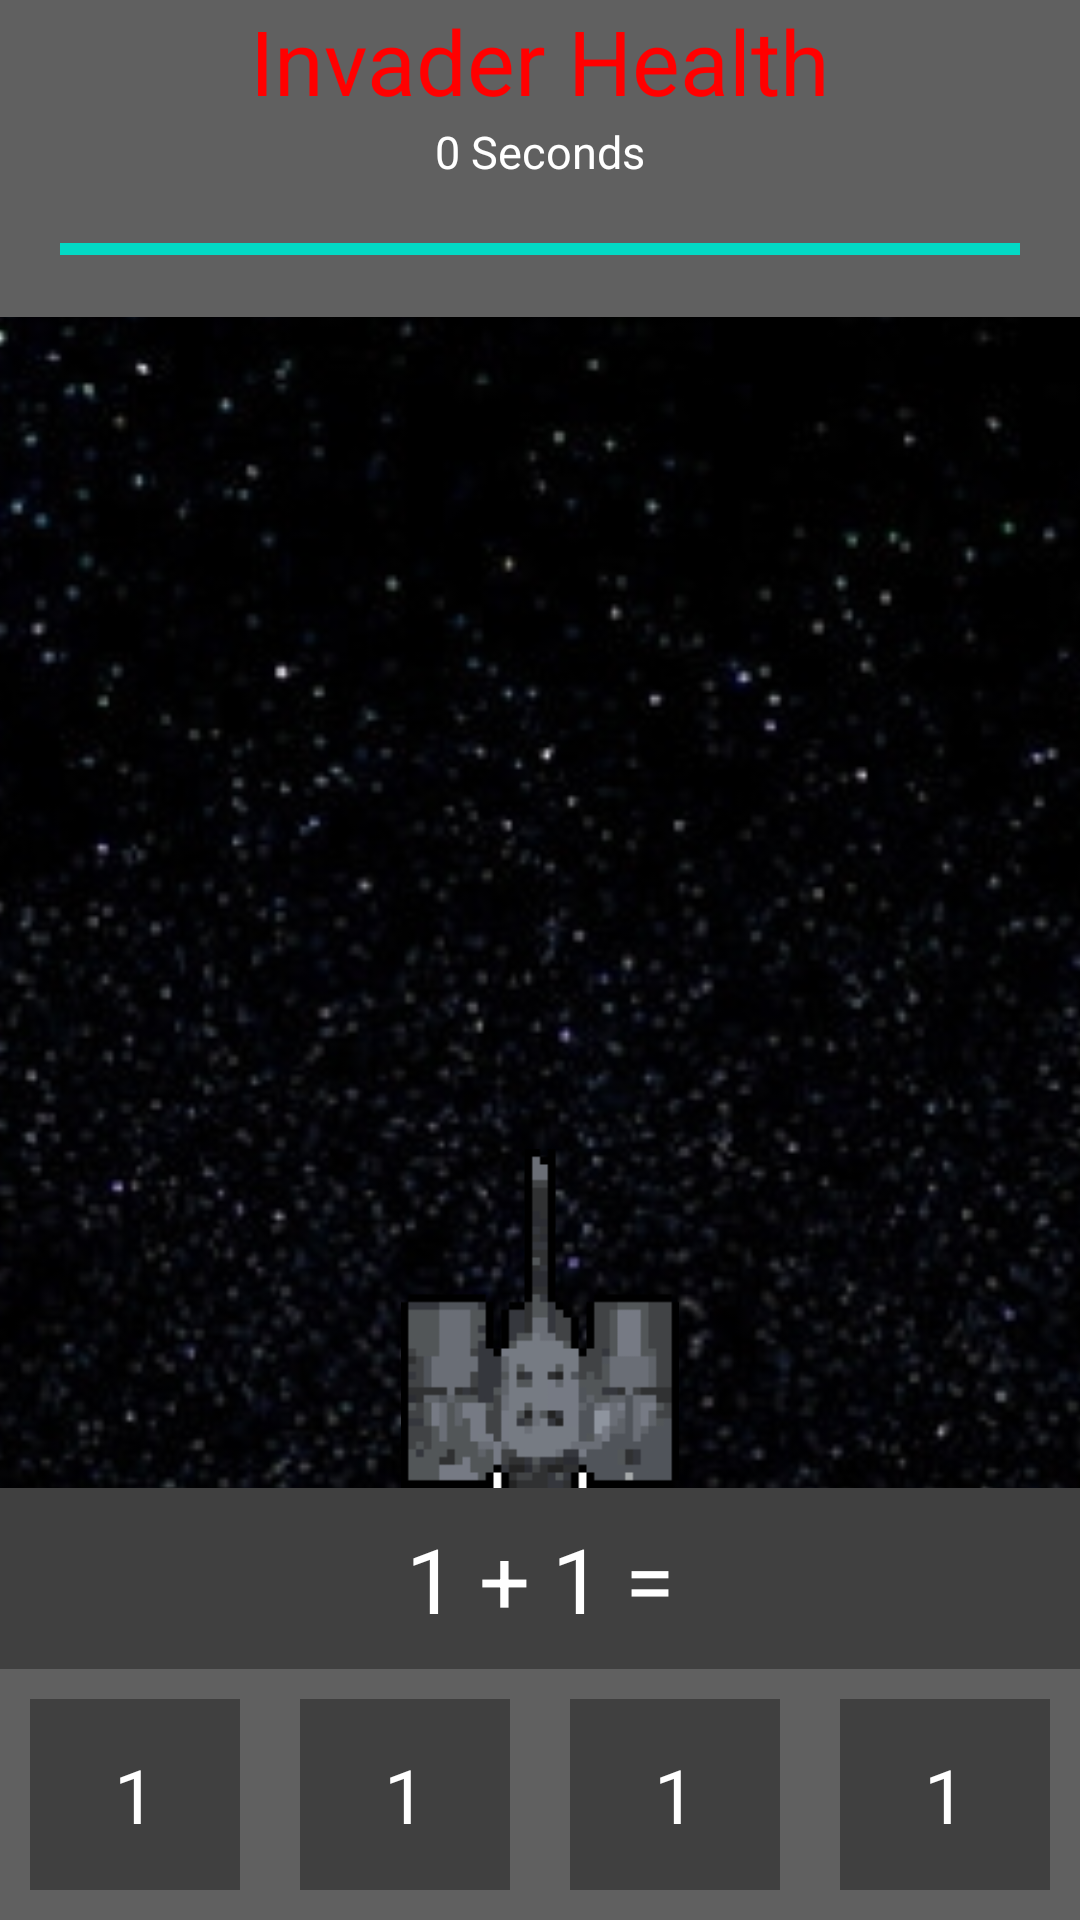

Screen size 1080px×1920px. Icon name, then its center in pixels as point (x, y):
turret: point (540, 1318)
